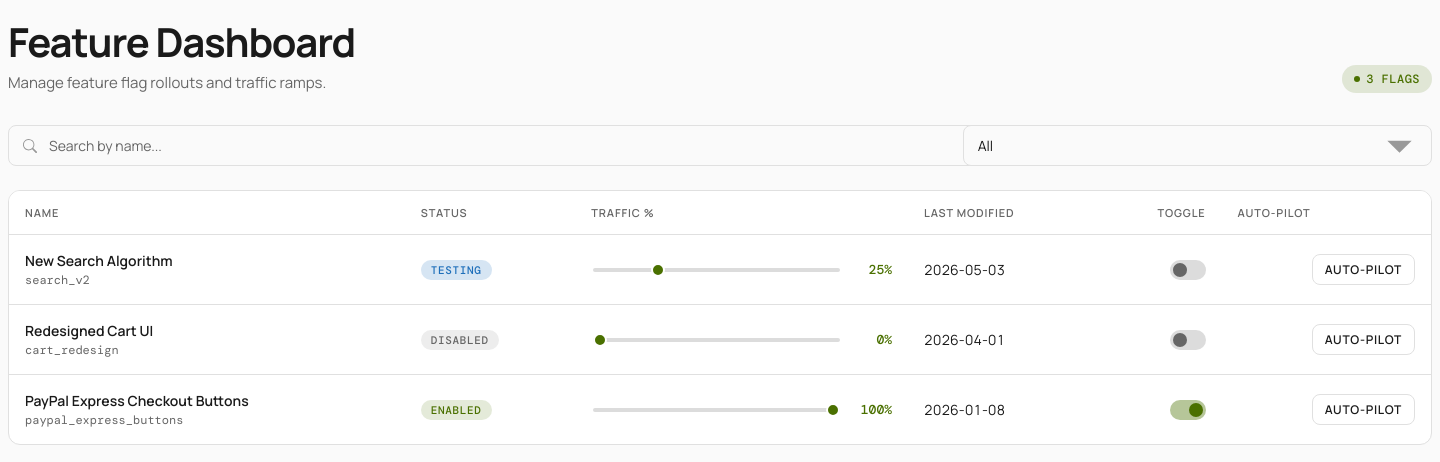
Test: FeatureListScreen › filters by status
Select "Testing" in the dropdown named "Filter by status": (1197, 146) [963, 125, 1432, 166]
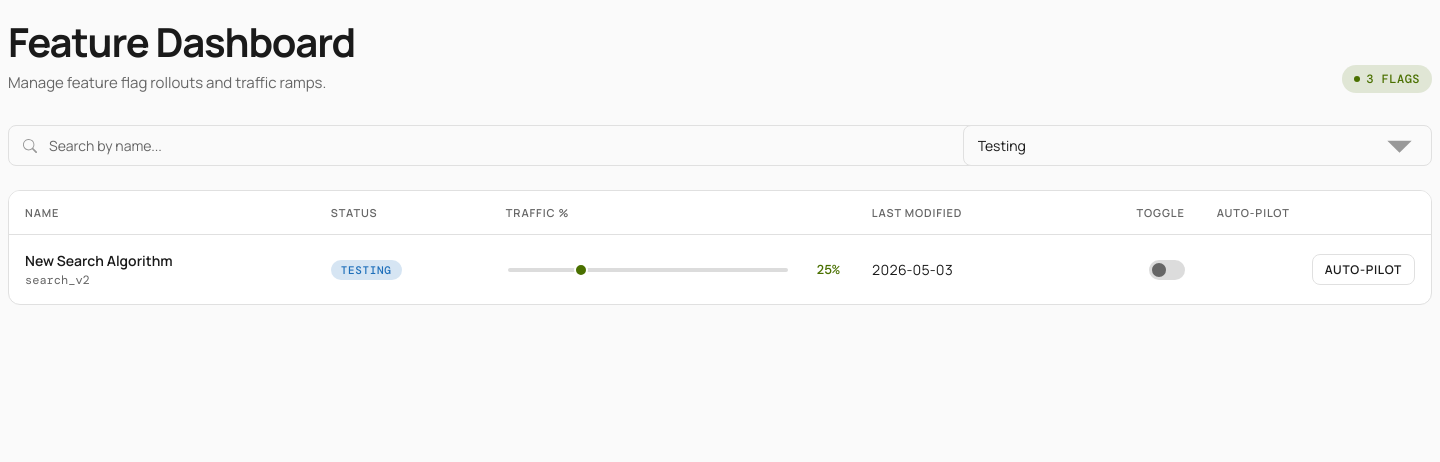
Expected: the text "New Search Algorithm" is shown, [25, 251, 173, 270]
Expected: the text "Redesigned Cart UI" is gone
Expected: the text "PayPal Express Checkout Buttons" is gone
